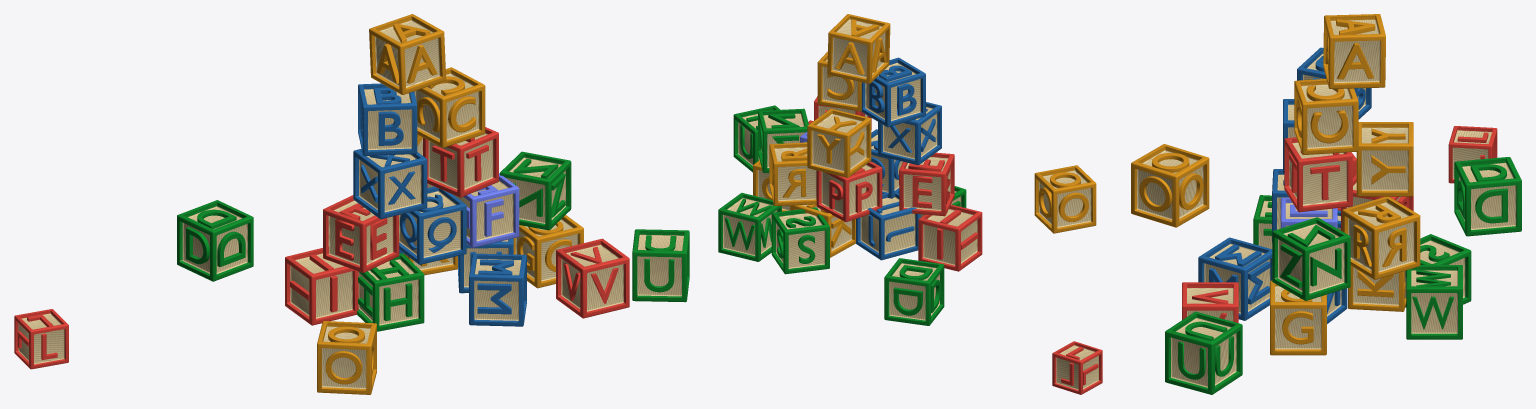
Rendered from alphabet-boxes.glb.
The picture shows the model from 3 angles, left to right: view 1: azimuth 30°, elevation 25°; view 2: azimuth 150°, elevation 25°; view 3: azimuth 270°, elevation 25°; orthographic projection. The views are drawn at different scales.
Visible parts, largest first — view 1: D, A, V, I, E, X, C, O, H, M, U, Z (+7 smaller); view 2: Y, O, A, D, I, S, B, W, J, E, P, R (+9 smaller); view 3: O, Z, U, R, D, A, C, Y, W, T, M, G (+11 smaller).
Boxes of the visible parts, x1=… form: D: x1=177, y1=200, x2=253, y2=281; A: x1=369, y1=14, x2=446, y2=94; V: x1=556, y1=238, x2=629, y2=318; I: x1=285, y1=248, x2=358, y2=325; E: x1=323, y1=195, x2=399, y2=272; X: x1=353, y1=148, x2=427, y2=219; C: x1=414, y1=67, x2=485, y2=147; O: x1=317, y1=321, x2=376, y2=394; H: x1=357, y1=253, x2=424, y2=331; M: x1=469, y1=253, x2=526, y2=326; U: x1=632, y1=229, x2=689, y2=302; Z: x1=500, y1=151, x2=571, y2=230; Y: x1=807, y1=108, x2=871, y2=177; O: x1=1034, y1=165, x2=1096, y2=233; A: x1=827, y1=14, x2=890, y2=83; D: x1=884, y1=258, x2=944, y2=325; I: x1=918, y1=204, x2=982, y2=271; S: x1=771, y1=207, x2=829, y2=274; B: x1=861, y1=57, x2=925, y2=127; W: x1=718, y1=193, x2=781, y2=261; J: x1=856, y1=192, x2=920, y2=260; E: x1=899, y1=152, x2=954, y2=216; P: x1=816, y1=161, x2=882, y2=222; R: x1=769, y1=142, x2=816, y2=205; O: x1=1131, y1=144, x2=1209, y2=227; Z: x1=1272, y1=217, x2=1350, y2=300; U: x1=1165, y1=311, x2=1242, y2=394; R: x1=1342, y1=196, x2=1420, y2=279; D: x1=1454, y1=157, x2=1521, y2=236; A: x1=1323, y1=14, x2=1385, y2=88; C: x1=1294, y1=79, x2=1358, y2=154; Y: x1=1356, y1=122, x2=1413, y2=196; W: x1=1406, y1=265, x2=1462, y2=339; T: x1=1284, y1=137, x2=1352, y2=212; M: x1=1198, y1=237, x2=1272, y2=320; G: x1=1270, y1=280, x2=1326, y2=355.
Size of the model in its own units: 262 by 136 by 157.
6 materials, 1 textured.
